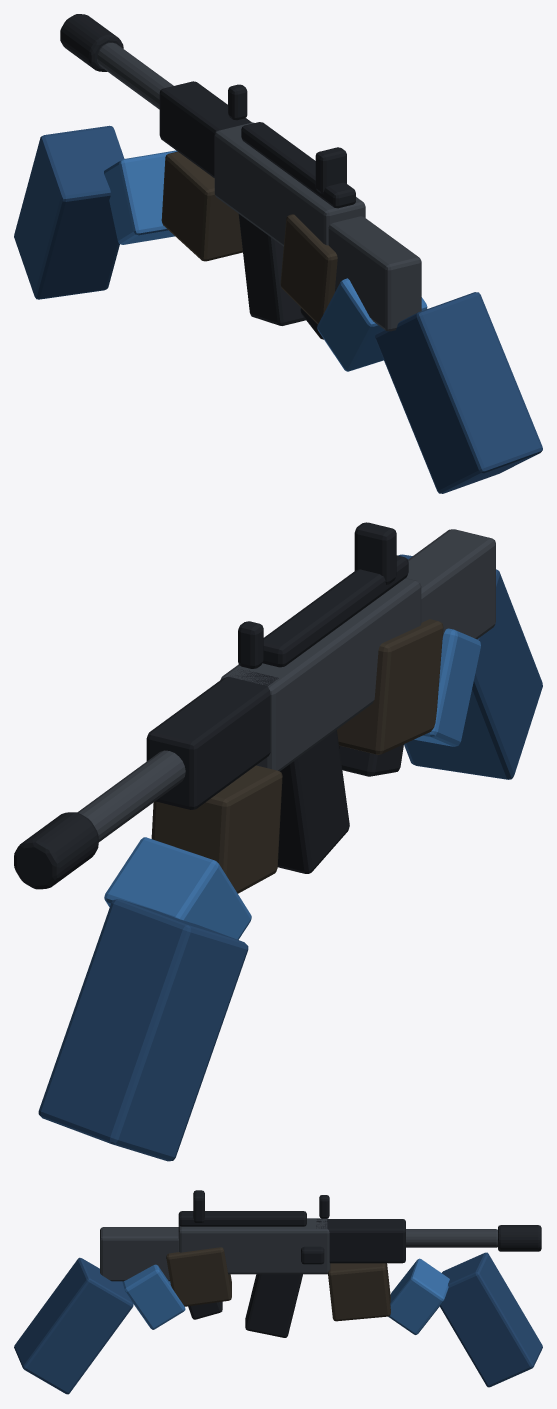
3 renders of one model, top to bottom at view 1: azimuth 30°, elevation 25°; view 2: azimuth 150°, elevation 25°; view 3: azimuth 270°, elevation 25°, orthographic. The views are drawn at different scales.
Visible parts, largest first — view 1: fp_ar; view 2: fp_ar; view 3: fp_ar.
Boxes of the visible parts, bbox=[...] form: fp_ar: bbox=[14, 14, 542, 493]; fp_ar: bbox=[14, 522, 542, 1161]; fp_ar: bbox=[14, 1190, 542, 1394].
Bounding box in the file's own units: 0.2239 × 0.3733 × 0.9077.
